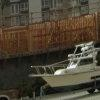Boat: (28, 41, 99, 87)
